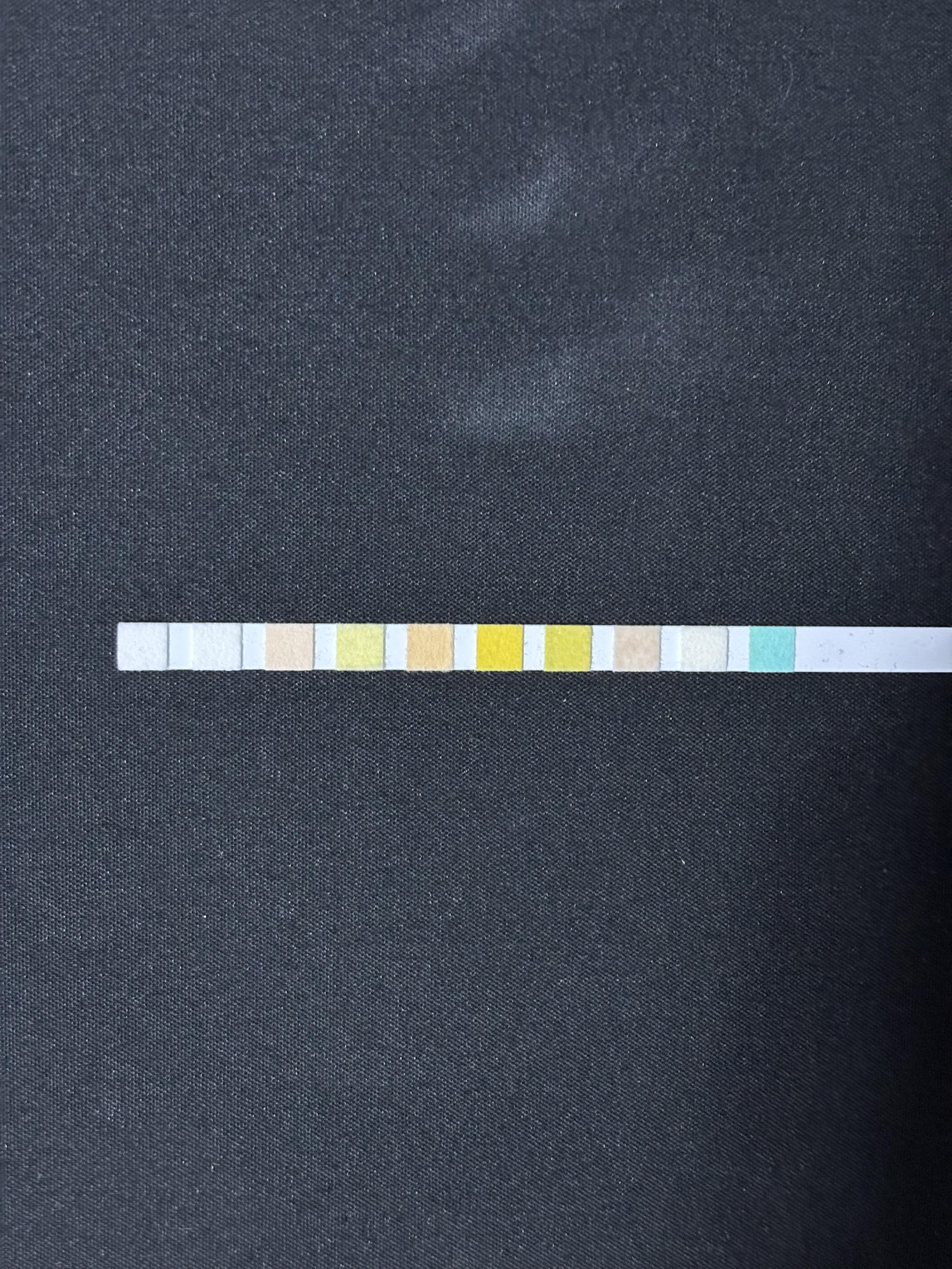Bilirubin: (682, 626, 727, 671)
Blood: (477, 625, 523, 671)
Glucose: (751, 627, 794, 671)
Ketone: (616, 626, 659, 671)
Leukocytes: (119, 623, 167, 670)
Nitrite: (194, 624, 240, 670)
Protein: (337, 624, 384, 670)
SpGravity: (547, 626, 592, 670)
Urobilinogen: (267, 625, 312, 670)
pH: (408, 625, 453, 670)
strip: (118, 623, 952, 673)
